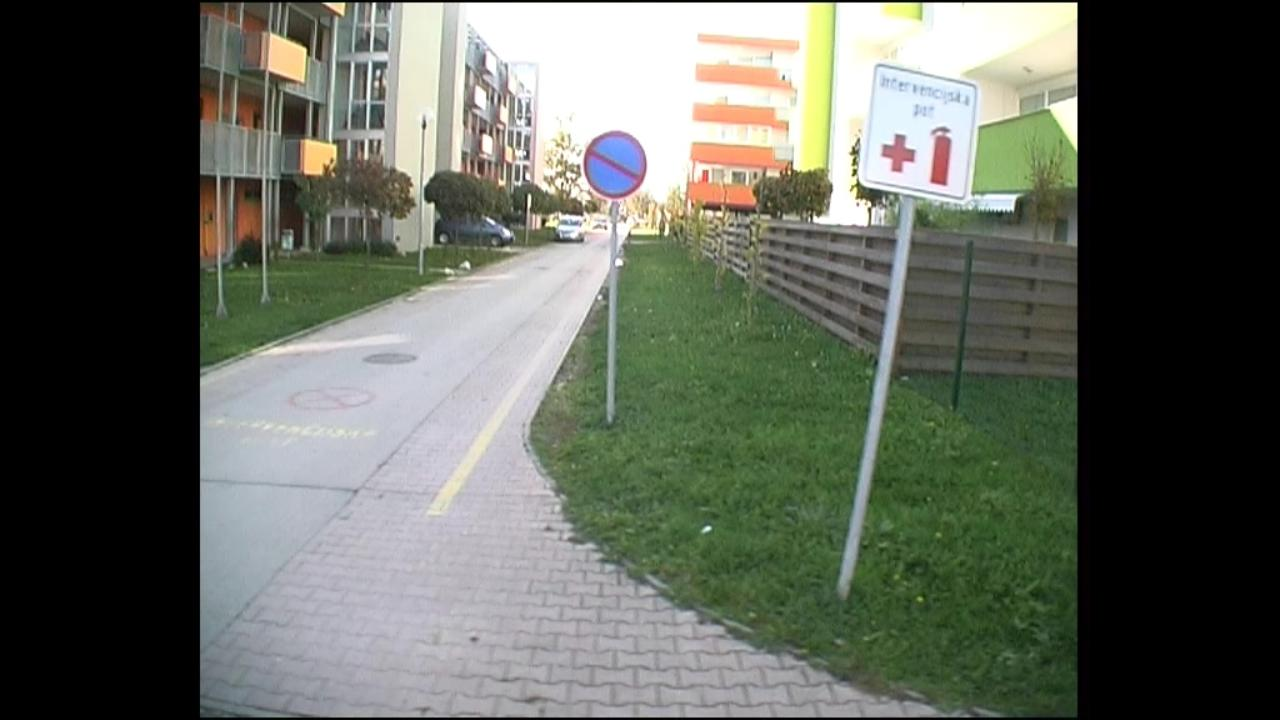Rectangle: (859, 62, 981, 206)
Round: (584, 128, 648, 200)
